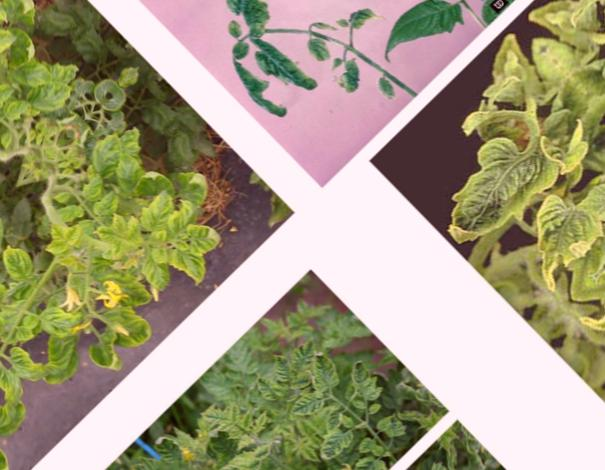Tomato leaf yellow virus: (418, 100, 587, 268), (495, 139, 605, 304), (97, 294, 160, 357), (334, 351, 394, 411), (298, 336, 357, 395), (82, 125, 141, 183), (178, 207, 237, 265), (37, 295, 92, 351), (1, 342, 56, 397), (133, 186, 186, 239), (0, 234, 50, 290), (308, 418, 358, 468), (289, 377, 338, 426), (134, 248, 183, 297), (286, 333, 329, 376), (262, 346, 302, 386), (251, 371, 289, 410), (91, 187, 129, 224), (0, 262, 20, 330), (94, 215, 128, 249), (128, 447, 178, 470), (106, 235, 139, 268), (348, 447, 393, 470), (249, 435, 280, 466), (65, 218, 95, 248), (45, 235, 74, 265), (0, 304, 13, 345), (223, 403, 246, 426), (220, 456, 244, 470), (235, 465, 271, 470), (309, 469, 346, 470)
